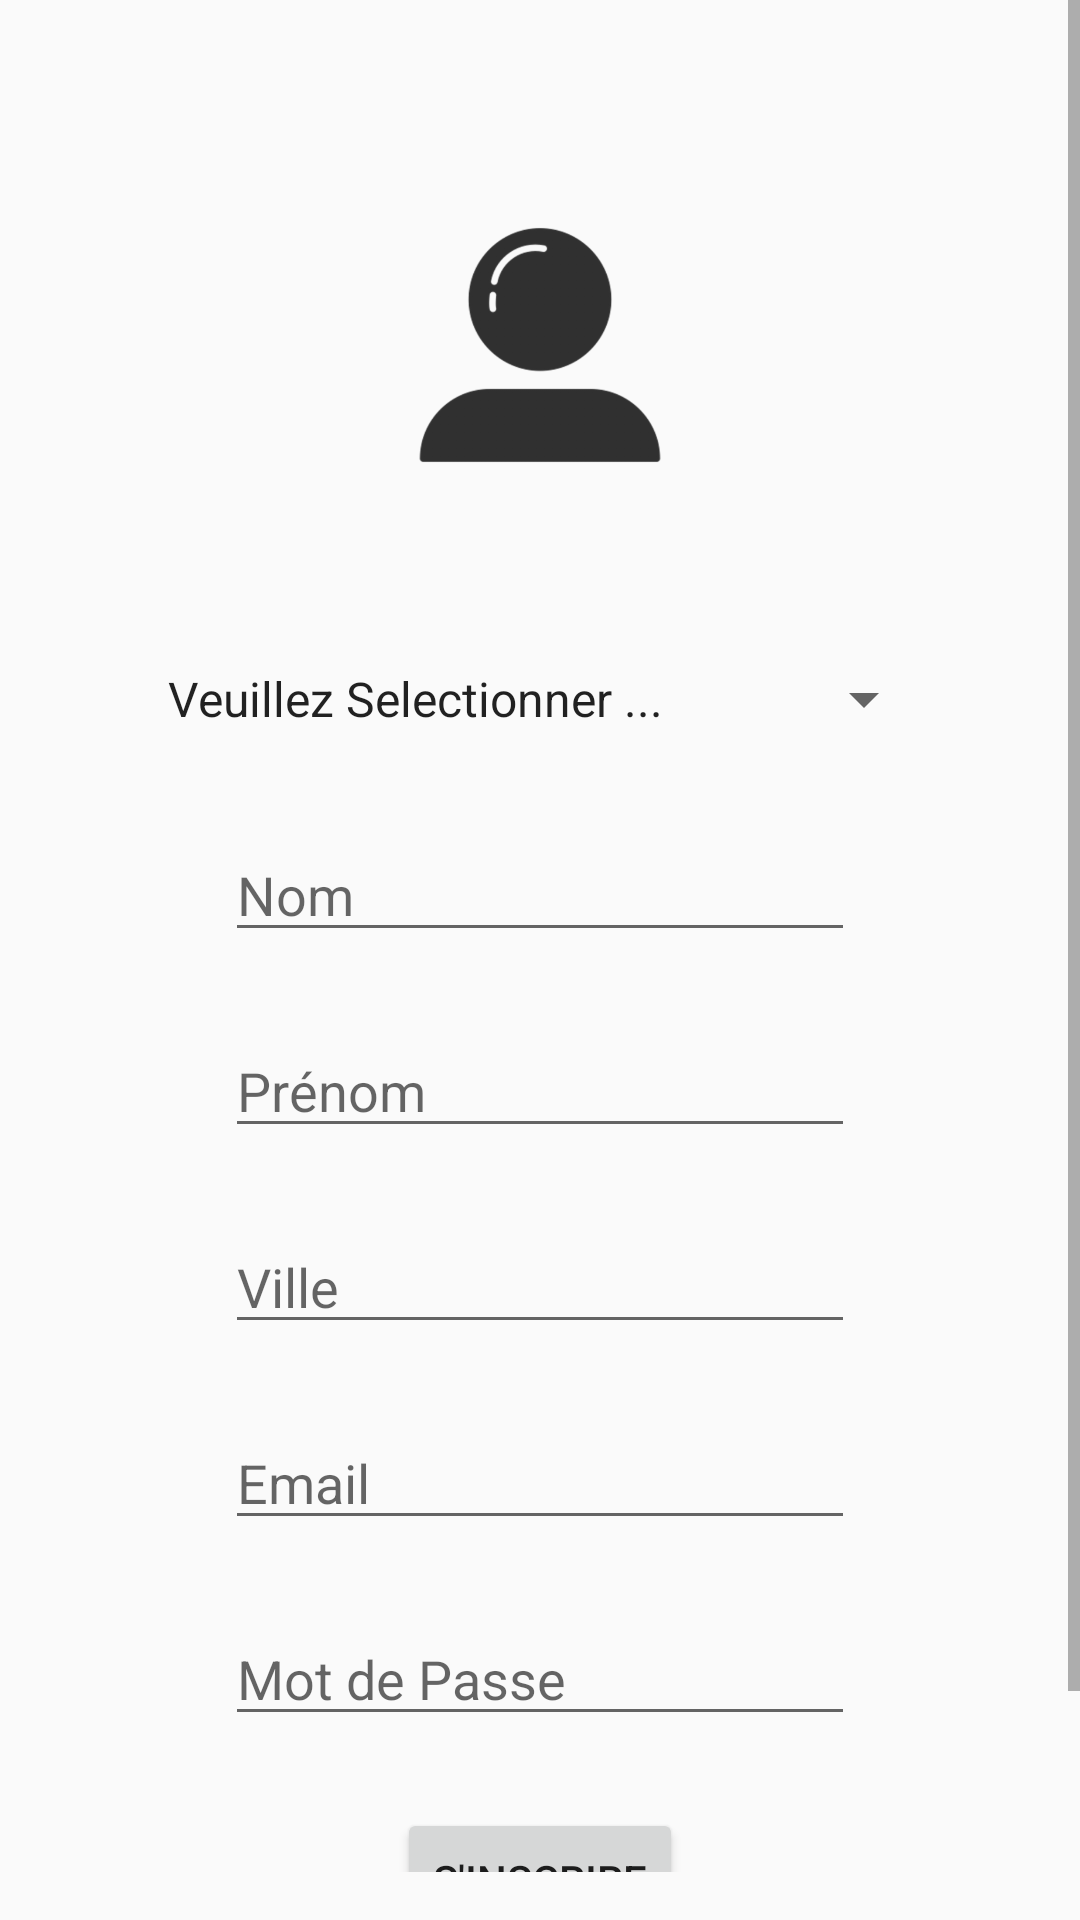

Icons on this 1080 × 1920 Android screen, each with its box as (left=x1, top=y1, right=x2, bottom=y2):
user: (left=419, top=228, right=661, bottom=462)
